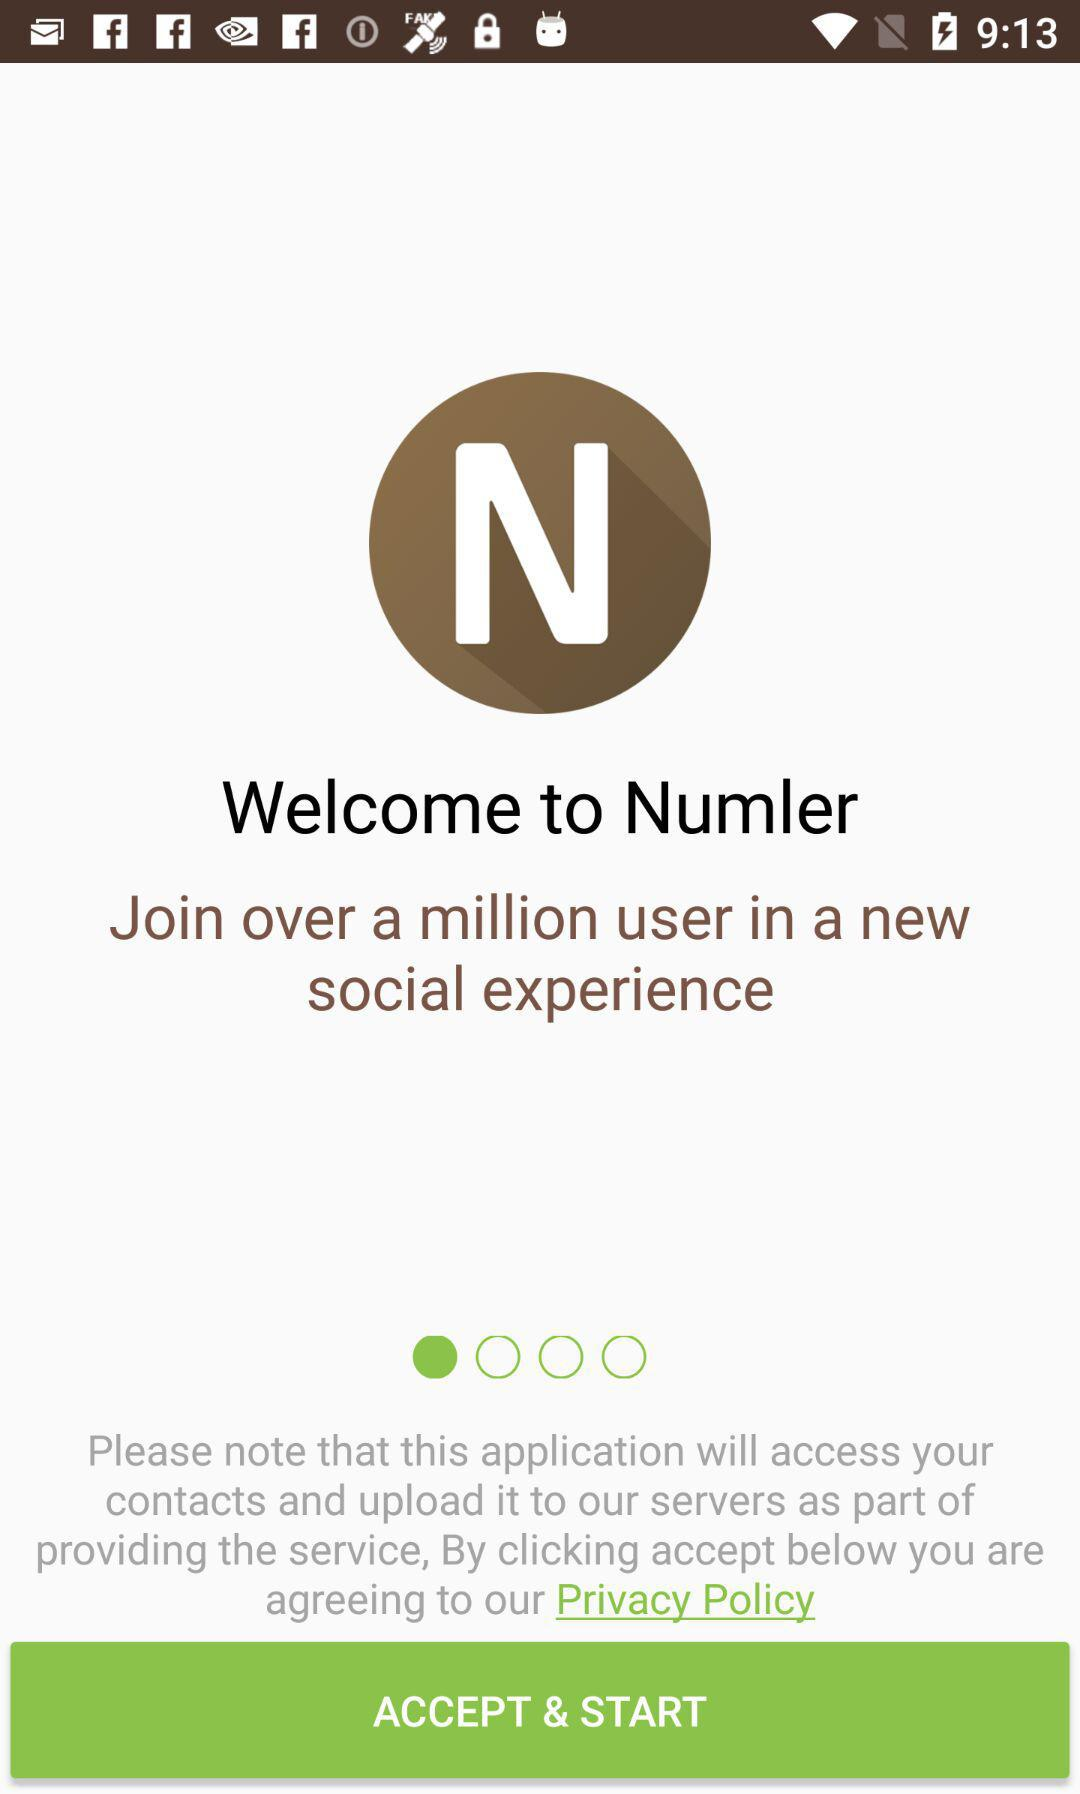Image: (368, 372, 711, 714)
PageIndicator: (413, 1334, 648, 1381)
Text: (37, 1433, 1045, 1624), (110, 893, 971, 1023), (222, 777, 858, 835)
TextButton: (12, 1642, 1071, 1779)
UpperTaskBar: (1, 1, 1080, 64)
